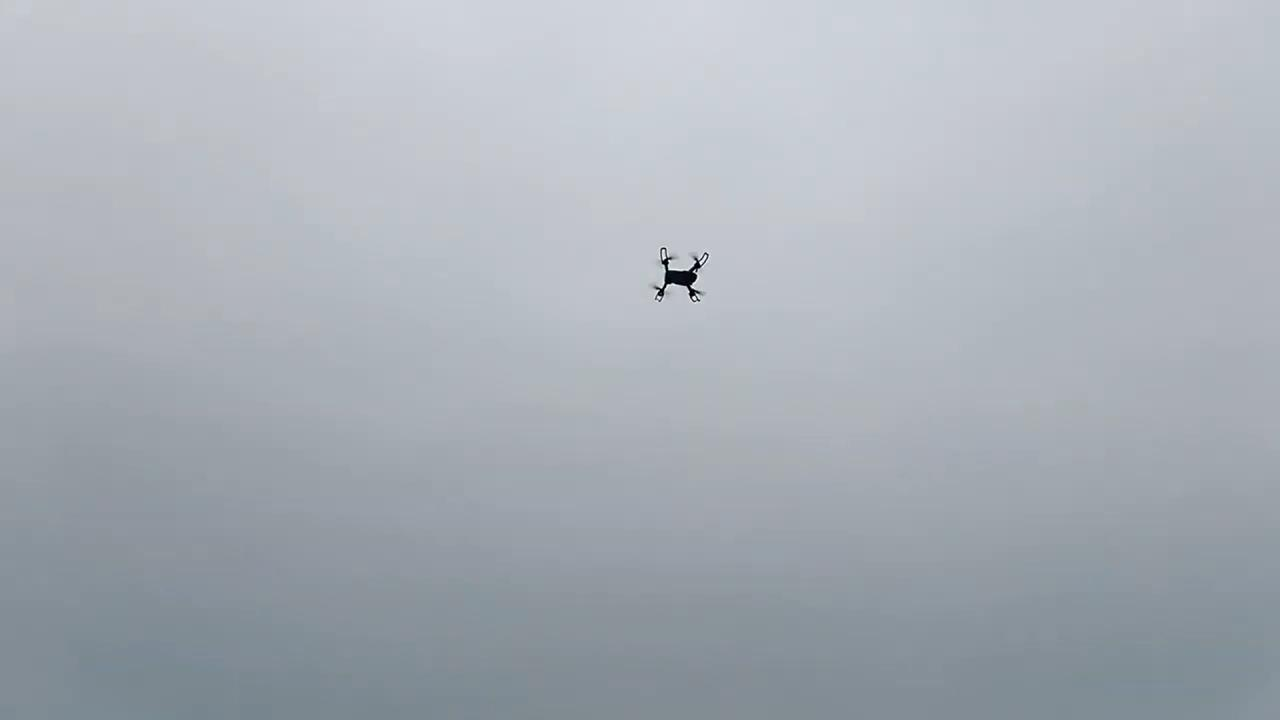Drone: (644, 238, 720, 312)
